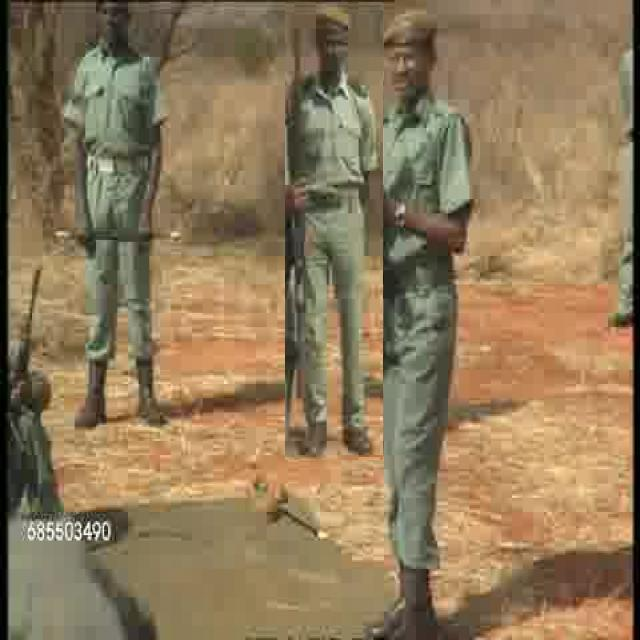poacher: (368, 19, 453, 638), (62, 2, 172, 444), (285, 2, 383, 460)
weapon: (360, 24, 376, 373)
